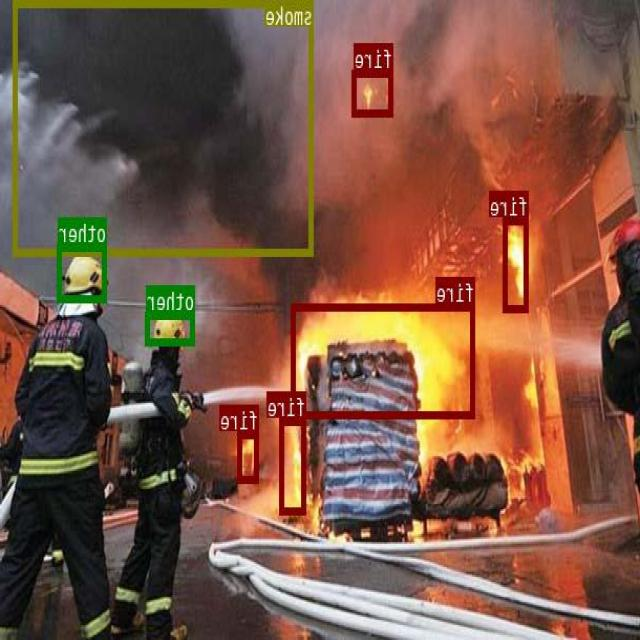fire: (292, 303, 475, 417), (281, 418, 307, 514), (504, 217, 530, 311), (353, 70, 394, 114), (238, 430, 260, 481)
other: (58, 243, 108, 301), (147, 312, 196, 344)
smoke: (13, 0, 314, 254)
